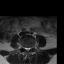CCS_normal: (26, 46, 28, 53)
LFS_normal: (30, 45, 32, 50)
LLS_stenosis: (29, 46, 30, 51)
RFS_normal: (23, 45, 25, 50)
RLS_normal: (25, 45, 26, 51)
